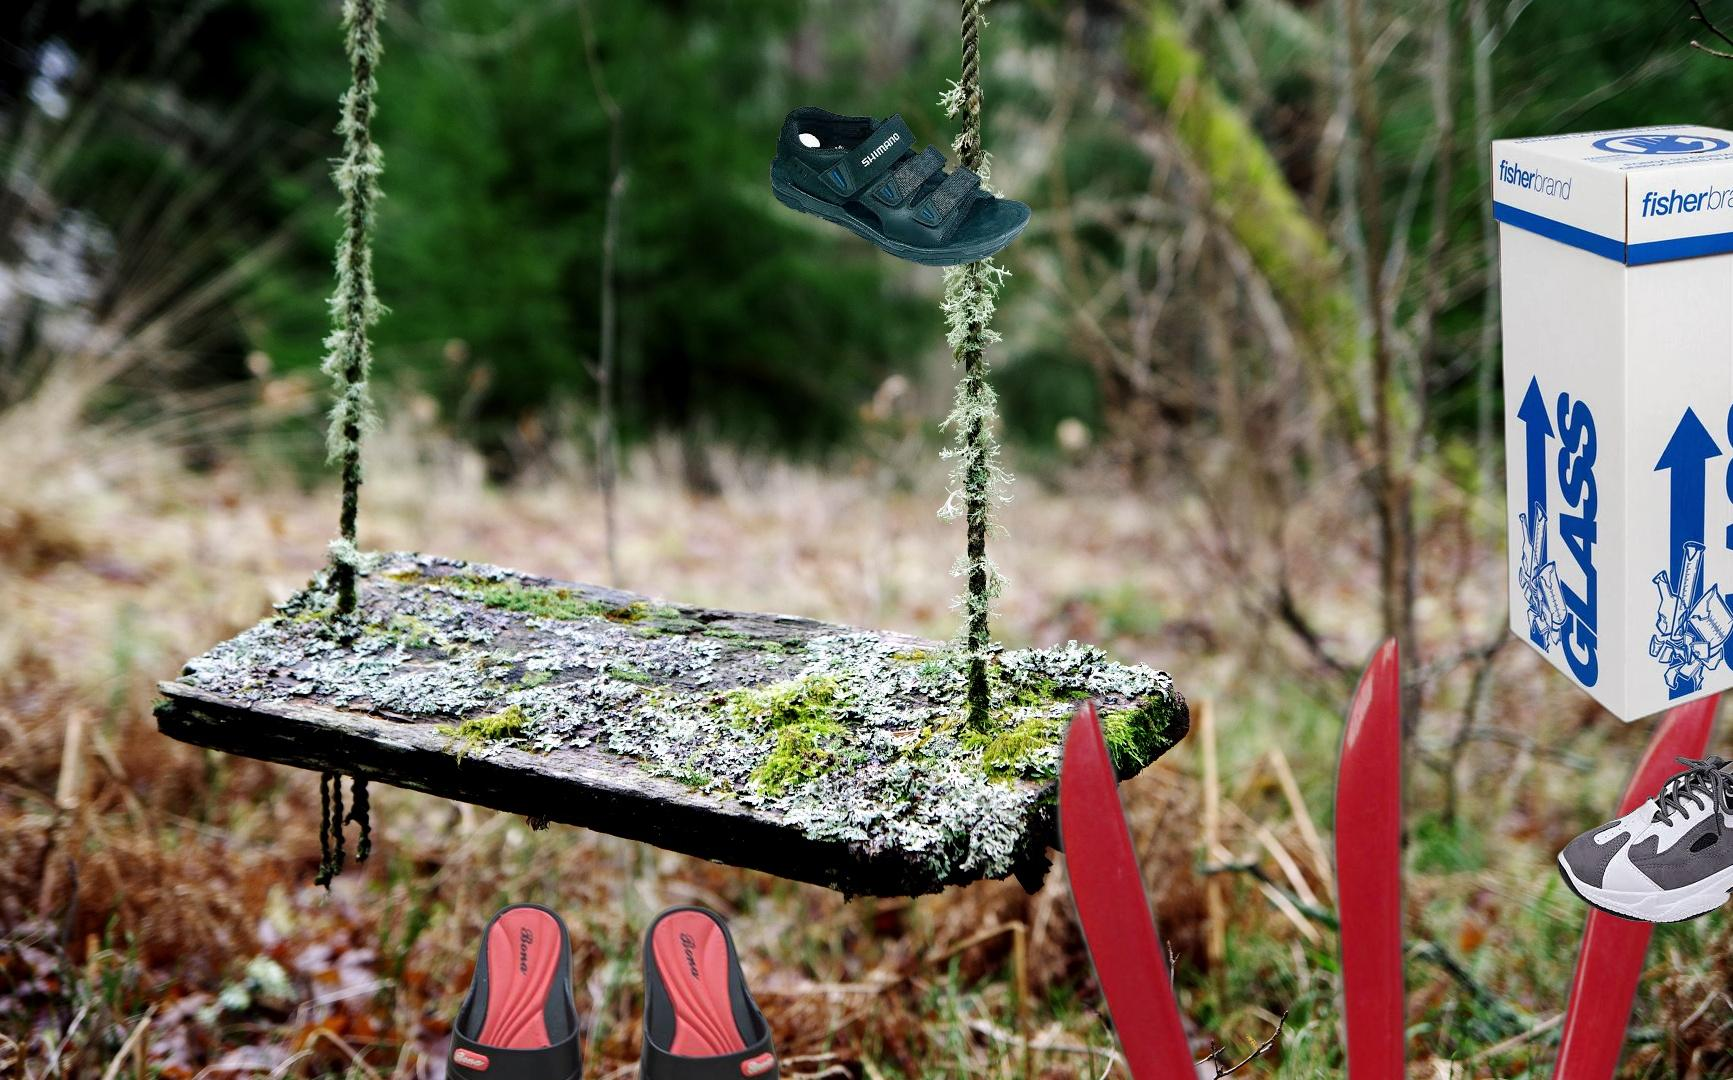paper: (1607, 221, 1733, 519)
penholder: (1038, 621, 1733, 1080)
shoes: (438, 897, 786, 1080), (768, 103, 1034, 269), (1555, 752, 1733, 926)
trashbox-cardboard: (1484, 118, 1733, 730)
